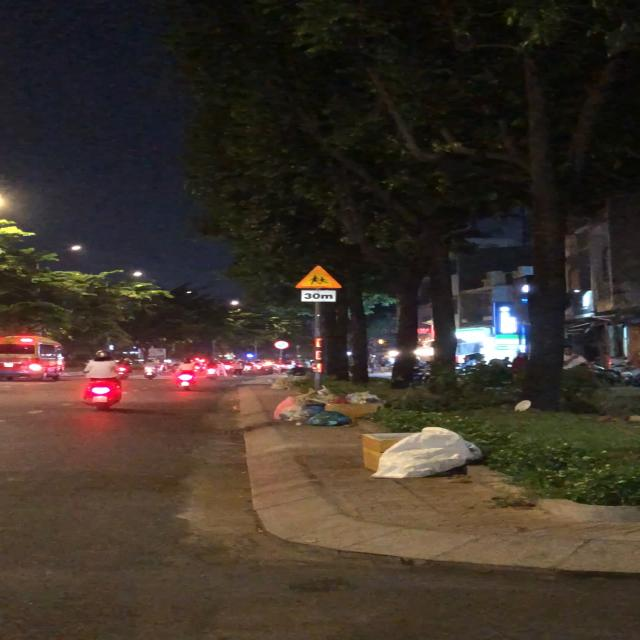Bien bao tre em: (290, 264, 346, 290)
